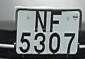0: (47, 32, 63, 54)
3: (32, 32, 48, 54)
5: (18, 31, 33, 55)
7: (62, 31, 77, 53)
F: (49, 11, 63, 34)
N: (34, 9, 49, 34)
